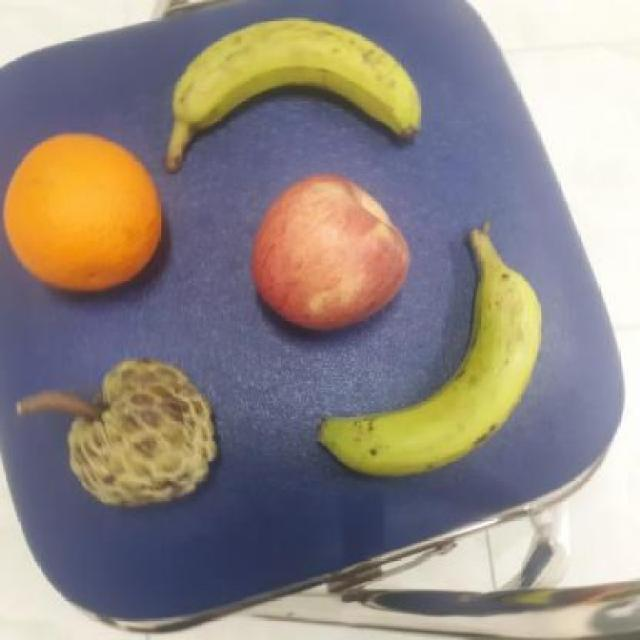apple: (246, 173, 412, 336)
banana: (320, 229, 546, 477), (167, 14, 424, 171)
oren: (3, 130, 163, 298)
sugar apple: (64, 354, 218, 518)
